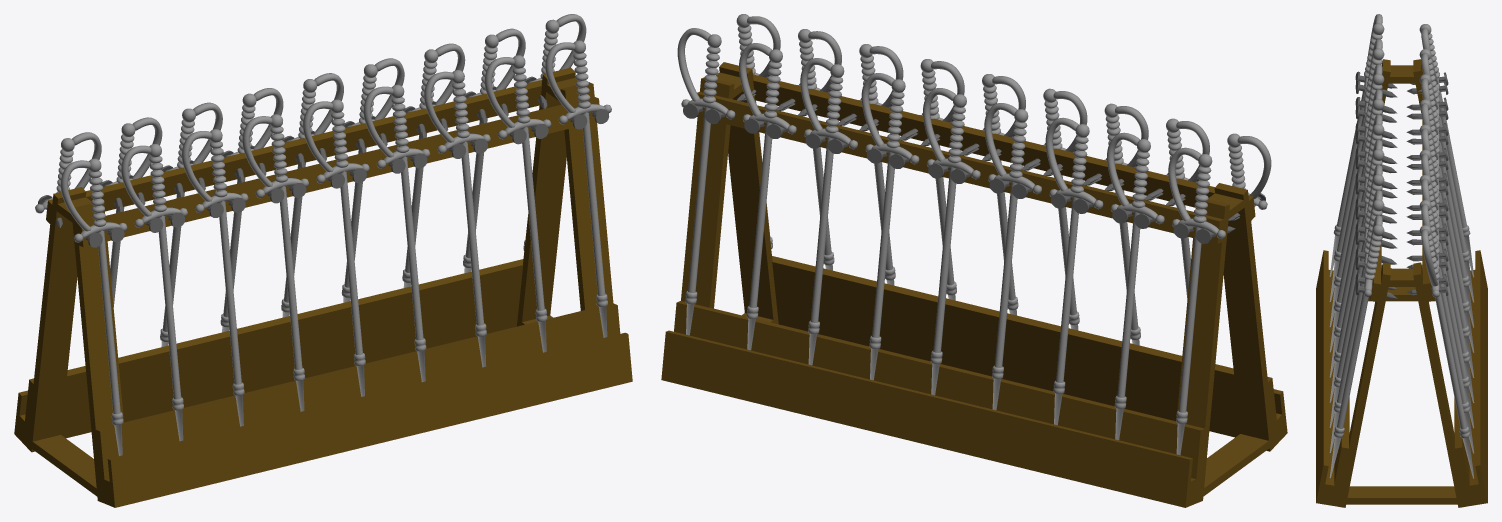
The model's file is estante espadas.fbx.
The picture shows the model from 3 angles, left to right: view 1: azimuth 30°, elevation 25°; view 2: azimuth 150°, elevation 25°; view 3: azimuth 270°, elevation 25°; orthographic projection. The views are drawn at different scales.
Parts seen in each view (by area): view 1: estante espadas, soporte y espadas.001, soporte y espadas.002; view 2: estante espadas, soporte y espadas.002, soporte y espadas.001; view 3: estante espadas, soporte y espadas.001, soporte y espadas.002.
Part boxes in pixels (x1,y1,x2,y2): estante espadas: (14, 67, 632, 507); soporte y espadas.001: (60, 40, 611, 455); soporte y espadas.002: (35, 14, 586, 347); estante espadas: (661, 62, 1287, 507); soporte y espadas.002: (677, 28, 1235, 454); soporte y espadas.001: (736, 14, 1271, 345); estante espadas: (1316, 59, 1487, 507); soporte y espadas.001: (1329, 14, 1397, 478); soporte y espadas.002: (1406, 24, 1474, 478).
Bounding box in the file's own units: 150 × 84.31 × 47.36.
